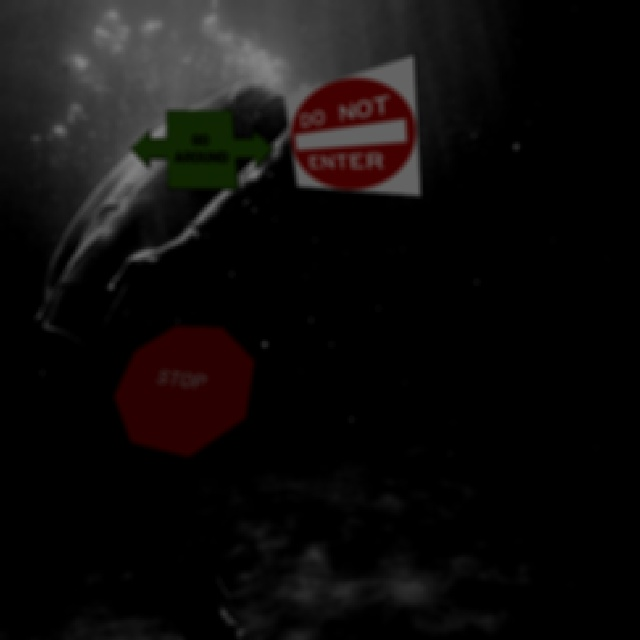DO_NOT_ENTER: (282, 52, 421, 196)
GO_AROUND: (129, 108, 273, 189)
STOP: (111, 323, 255, 458)
